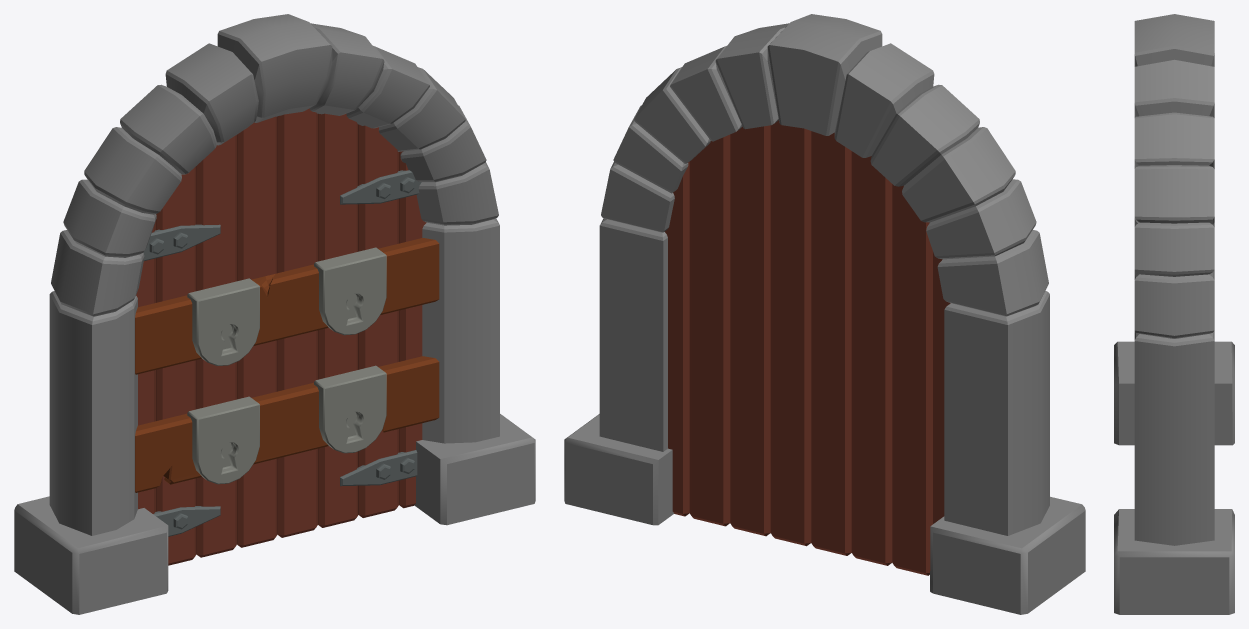
The model's file is Door.fbx.
3 views of the same model, side by side, from view 1: azimuth 30°, elevation 25°; view 2: azimuth 150°, elevation 25°; view 3: azimuth 270°, elevation 25° (orthographic). The views are drawn at different scales.
Parts seen in each view (by area): view 1: Door_stone, Door_2, Door_1, Wood_1, Wood_2, lock_4, lock_2, lock_1, lock_3; view 2: Door_stone, Door_2, Door_1; view 3: Door_stone.
Boxes of the visible parts, box(x1,y1,x2,y2) form: Door_stone: box(14, 14, 535, 614); Door_2: box(277, 108, 426, 537); Door_1: box(136, 116, 277, 565); Wood_1: box(135, 238, 439, 374); Wood_2: box(135, 356, 439, 492); lock_4: box(314, 365, 386, 453); lock_2: box(314, 247, 386, 335); lock_1: box(187, 278, 259, 365); lock_3: box(187, 396, 259, 484); Door_stone: box(564, 14, 1085, 614); Door_2: box(665, 120, 811, 546); Door_1: box(811, 131, 950, 575); Door_stone: box(1114, 14, 1234, 614).
Size of the model in its own units: 785 by 826 by 188.
